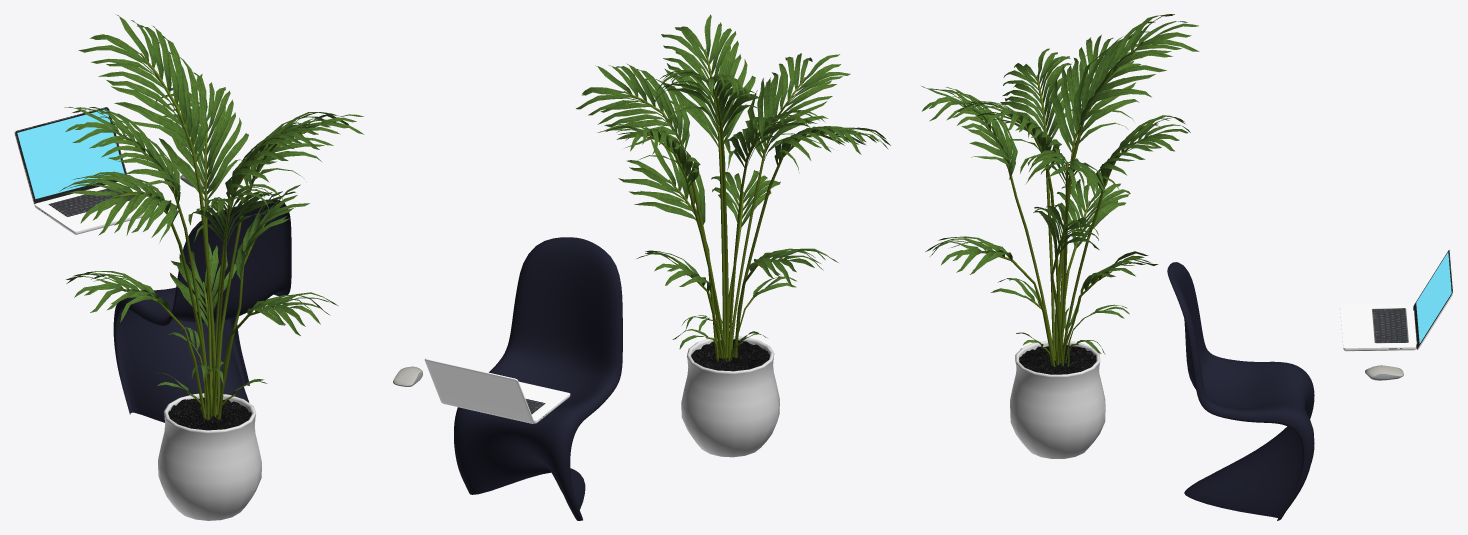
3 renders of one model, left to right at view 1: azimuth 30°, elevation 25°; view 2: azimuth 150°, elevation 25°; view 3: azimuth 270°, elevation 25°, orthographic. The views are drawn at different scales.
Parts seen in each view (by area): view 1: Chocofur_Flowers_36, Seat, M1_screen, M1, M1_top; view 2: Chocofur_Flowers_36, Seat, M1_top, M1; view 3: Chocofur_Flowers_36, Seat, M1, M1_screen.
Boxes of the visible parts, x1,y1,x2,y2 form: Chocofur_Flowers_36: (59, 14, 363, 520); Seat: (113, 199, 291, 422); M1_screen: (17, 109, 124, 198); M1: (34, 182, 163, 234); M1_top: (14, 106, 127, 204); Chocofur_Flowers_36: (576, 14, 890, 457); Seat: (454, 237, 622, 520); M1_top: (424, 358, 534, 423); M1: (519, 381, 570, 423); Chocofur_Flowers_36: (921, 14, 1199, 458); Seat: (1167, 262, 1314, 520); M1: (1340, 303, 1416, 351); M1_screen: (1416, 252, 1451, 343).
Size of the model in its own units: 13.39 by 17.36 by 20.17.
9 materials, 4 textured.
